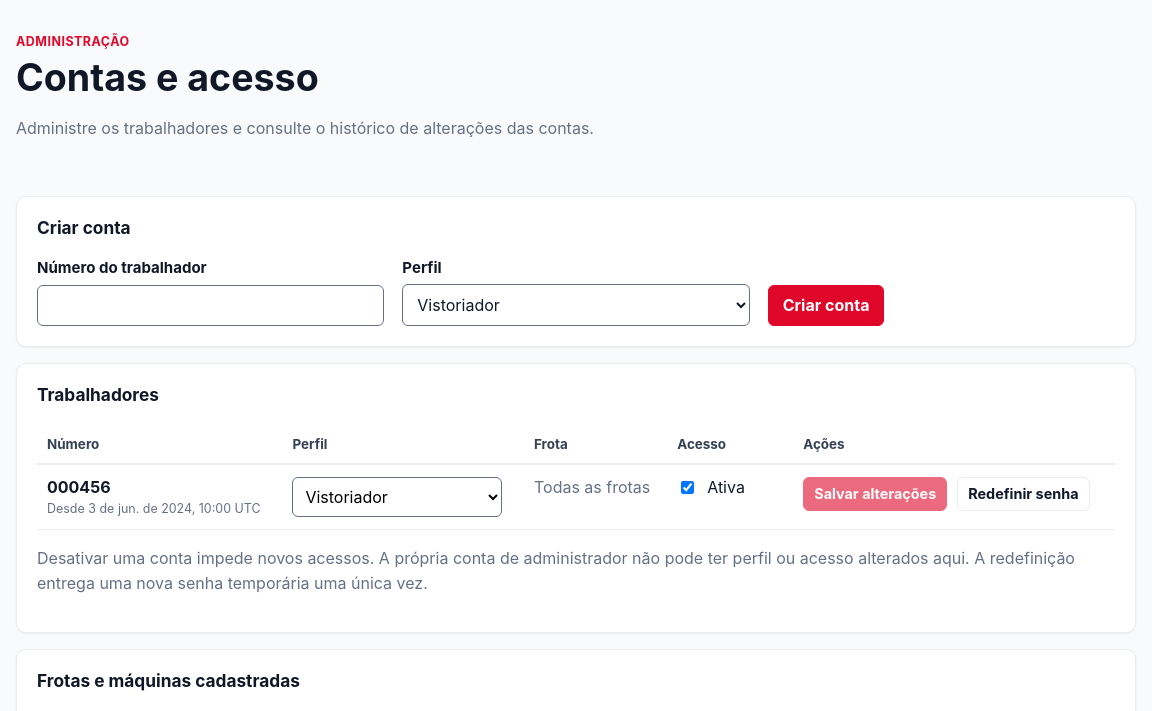
Test: AdminPage › mantém a edição disponível após uma falha na operação
The width and height of the screenshot is (1152, 711).
Step 1. Click the button "Redefinir senha" → (1023, 494), box left=957, top=477, right=1090, bottom=511
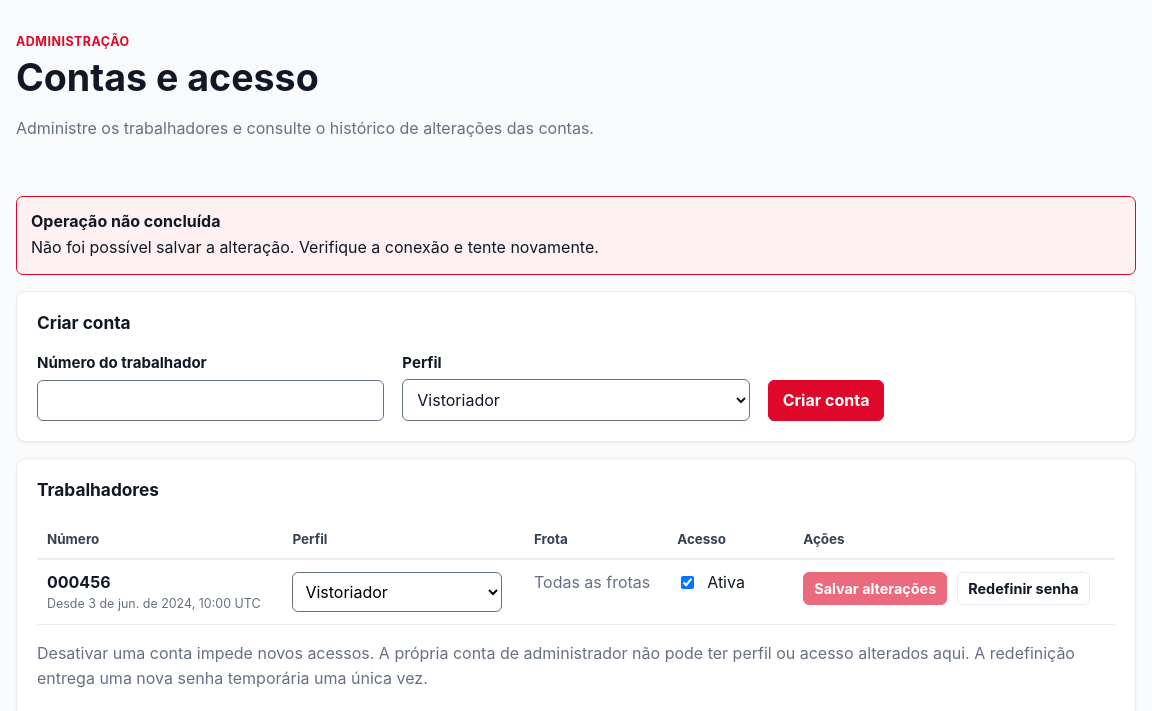
Expected: the button "Redefinir senha" is enabled, left=957, top=572, right=1090, bottom=606
Result: the message shows "Não foi possível salvar a alteração." at left=31, top=237, right=599, bottom=257
